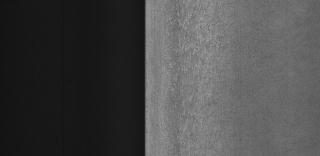silk spot: (164, 5, 232, 146)
